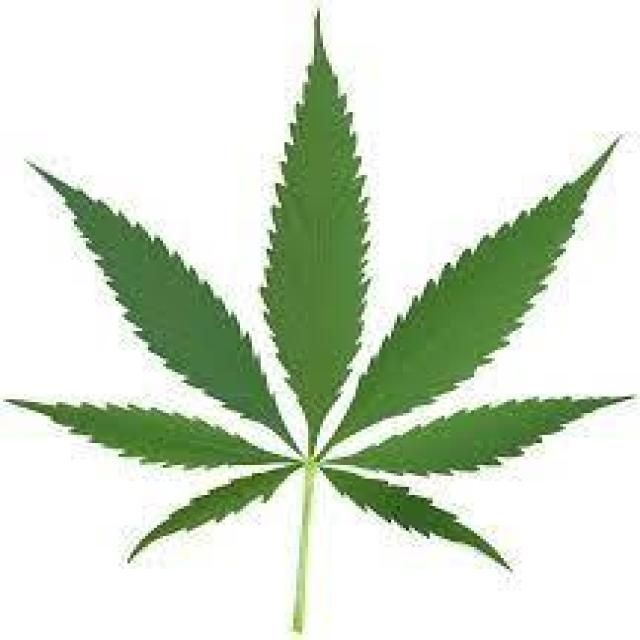cannabis: (6, 19, 631, 637), (33, 170, 293, 449)
